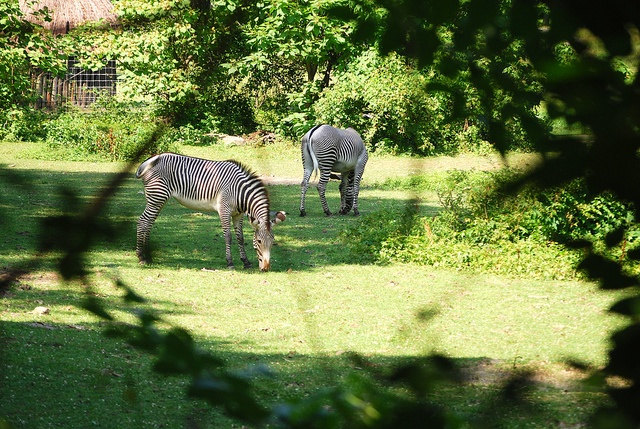zebra: (210, 211, 360, 329), (333, 169, 405, 258)
